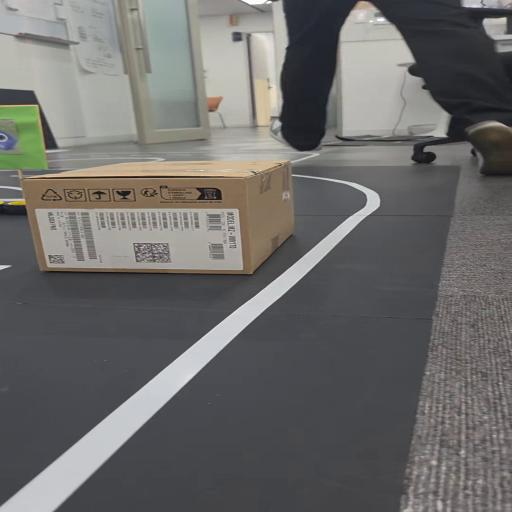Box: (18, 163, 310, 279)
